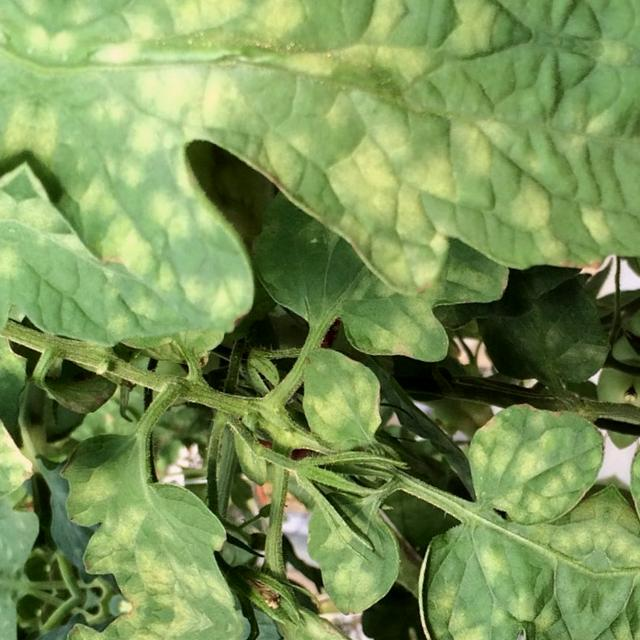Tomato mold leaf: (6, 0, 640, 382), (41, 386, 305, 635), (400, 393, 625, 640), (0, 141, 154, 355), (289, 336, 408, 465), (289, 504, 409, 627), (584, 189, 640, 363), (0, 402, 62, 532)
